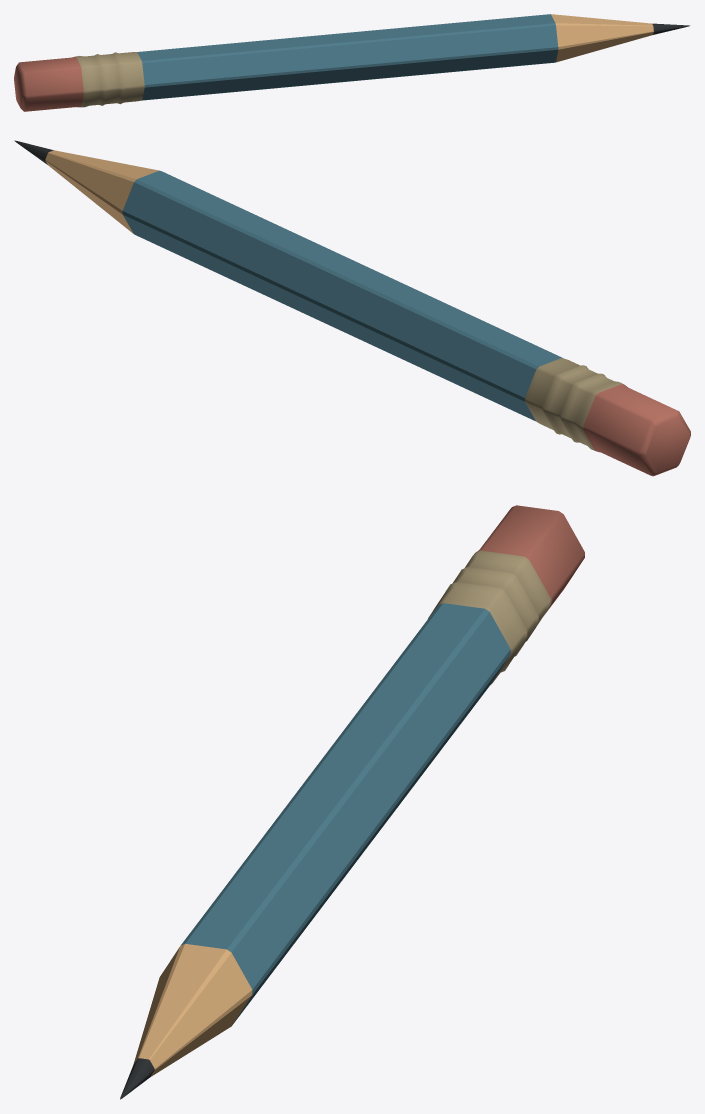
The model's file is blue_pencil_v16.glb.
The picture shows the model from 3 angles, top to bottom: view 1: azimuth 30°, elevation 25°; view 2: azimuth 150°, elevation 25°; view 3: azimuth 270°, elevation 25°; orthographic projection. The views are drawn at different scales.
Parts seen in each view (by area): view 1: blue_continuous_pencil; view 2: blue_continuous_pencil; view 3: blue_continuous_pencil.
Part boxes in pixels (left/top/right/bottom): blue_continuous_pencil: left=14, top=14, right=690, bottom=111; blue_continuous_pencil: left=14, top=140, right=690, bottom=476; blue_continuous_pencil: left=120, top=505, right=584, bottom=1099.
Size of the model in its own units: 0.7885 by 0.0556 by 0.2771.
